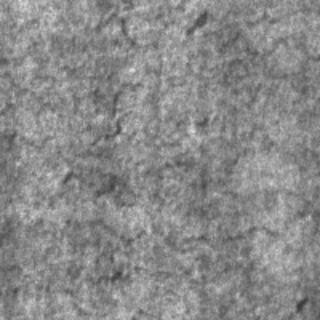crazing: (2, 8, 132, 156), (2, 213, 246, 285), (121, 165, 316, 251)
